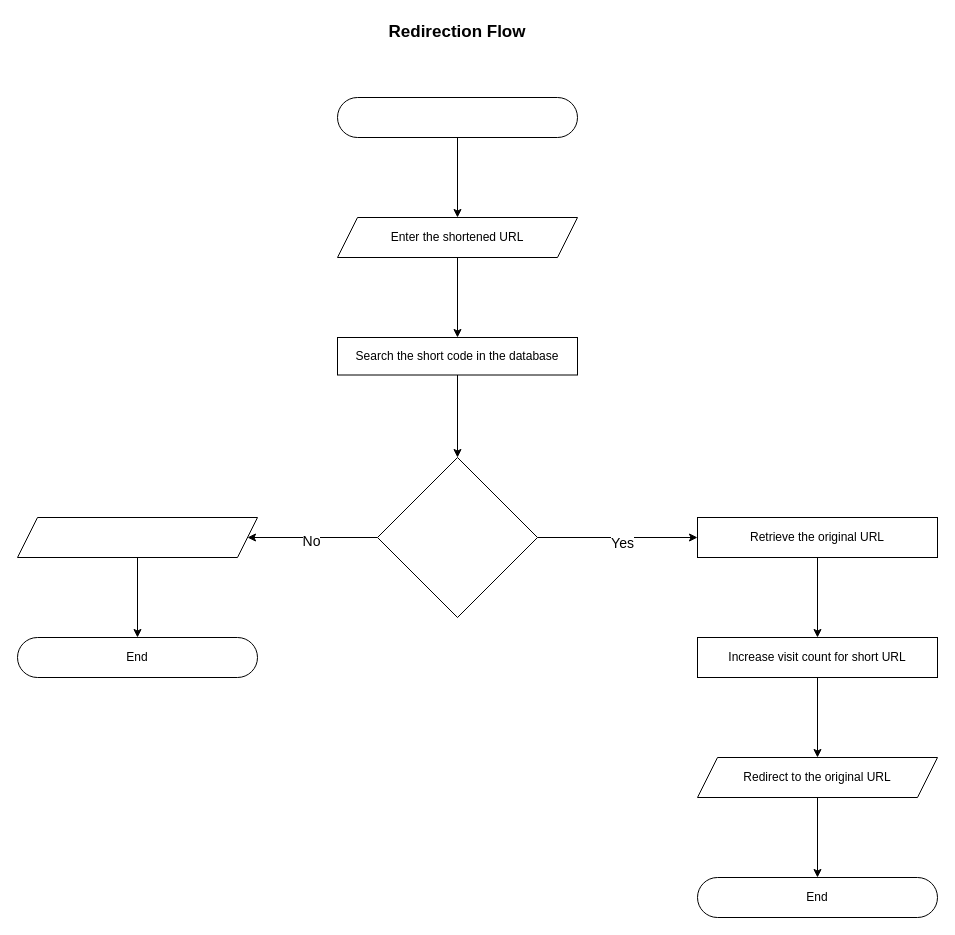
Some shapes in this 955 by 935 pixel diagram are drawn without their labels. The centre of each missing label's shape, as x and y in pixels:
"Short code in the database" belongs at pixel 457 537.
"Start" belongs at pixel 457 117.
"URL not found" belongs at pixel 137 537.
